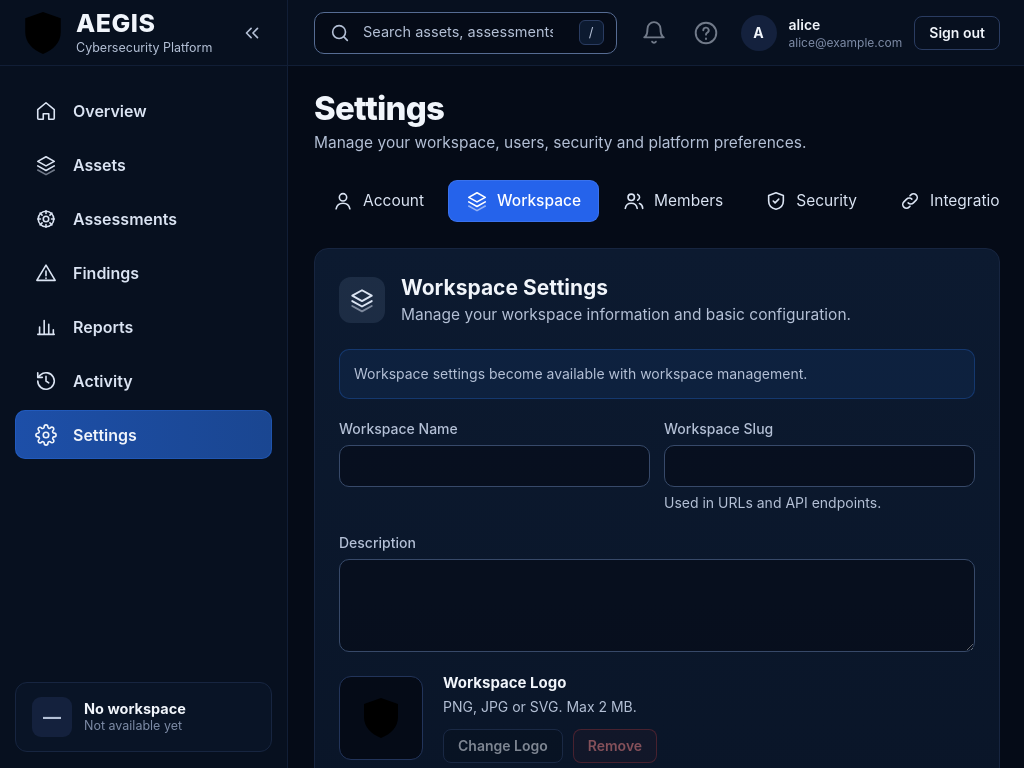
Test: profile › reports a wrong current password on its field and clears it
The image size is (1024, 768).
Click the tab "Account". click: (378, 201)
box: [314,180,442,222]
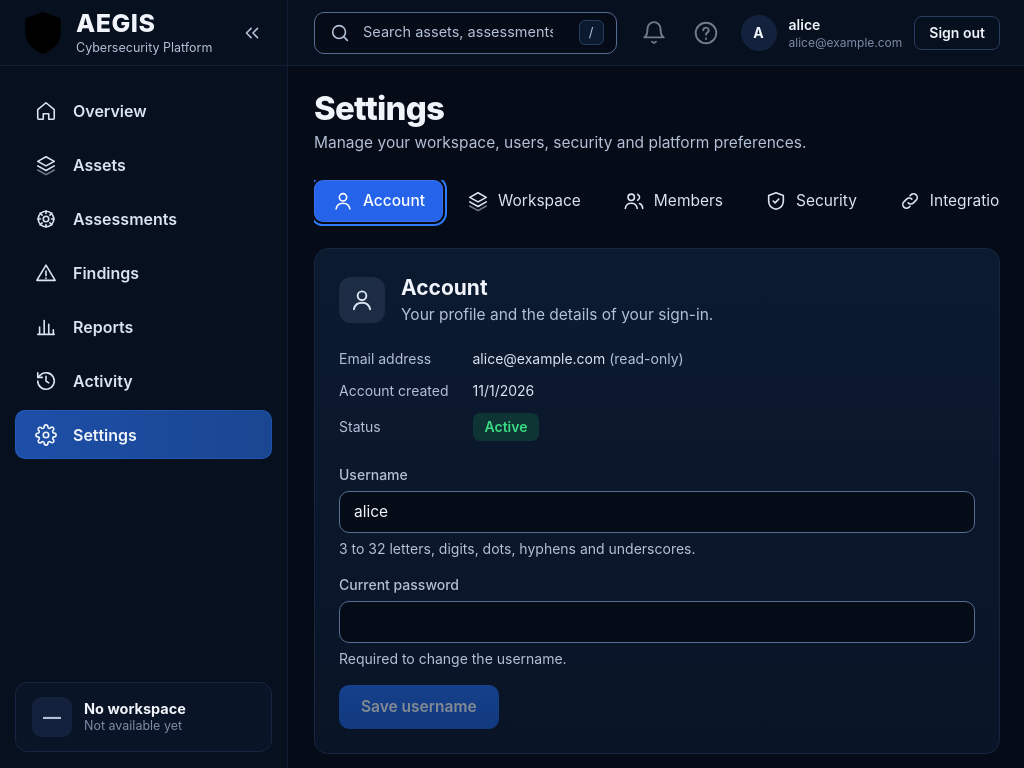
Replace the text in the field labelled "Username" with "alice.smith". click: (657, 512)
box: [339,491,975,533]
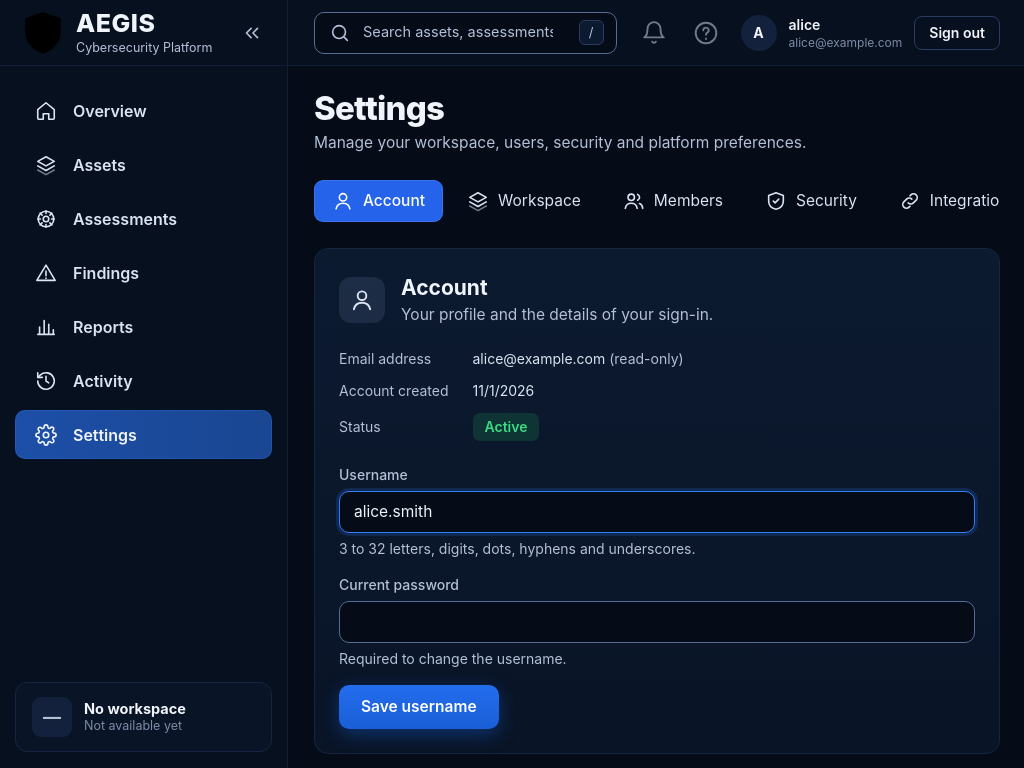
Type "not the password" into the password field labelled "Current password". click: (657, 622)
box: [339,601,975,643]
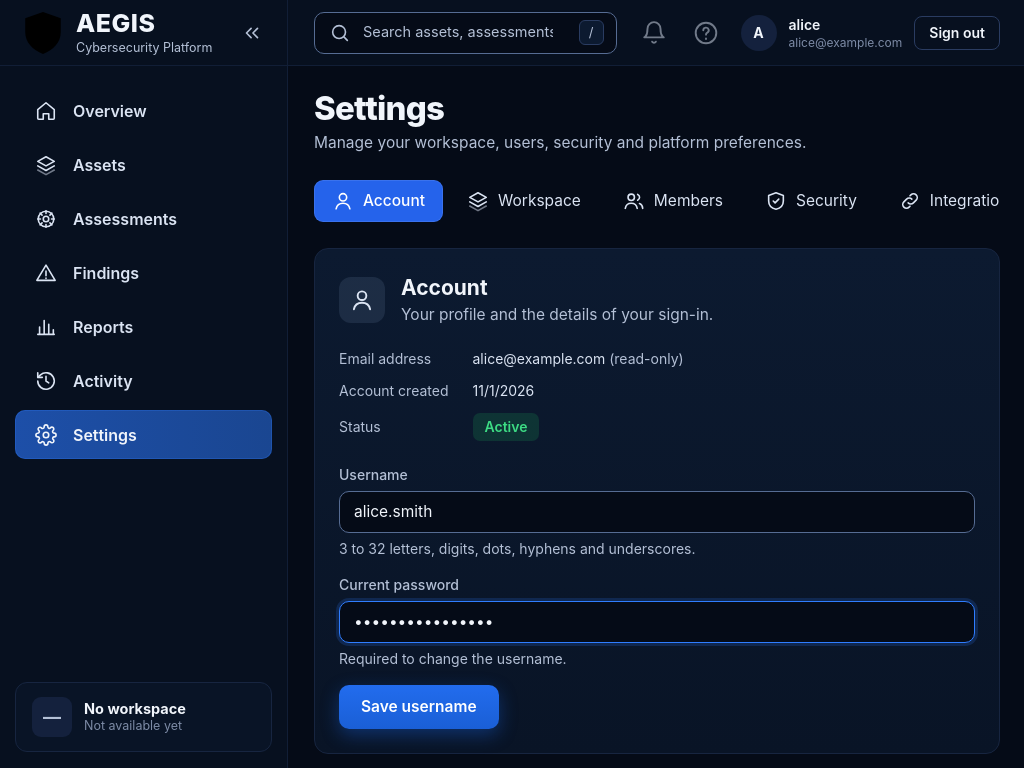
Click the button "Save username". click: (419, 707)
box: [339,685,499,729]
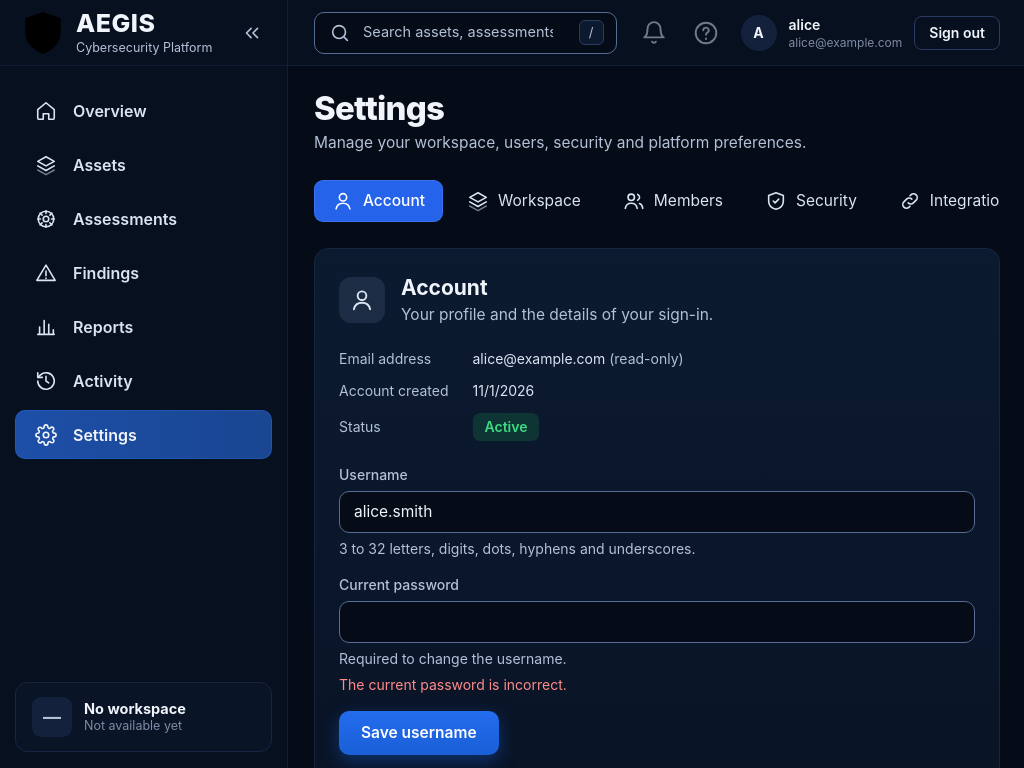
Now the text "The current password is incorrect." is shown, box [339,676,567,693]
Now the password field labelled "Current password" is empty, box [339,601,975,643]
